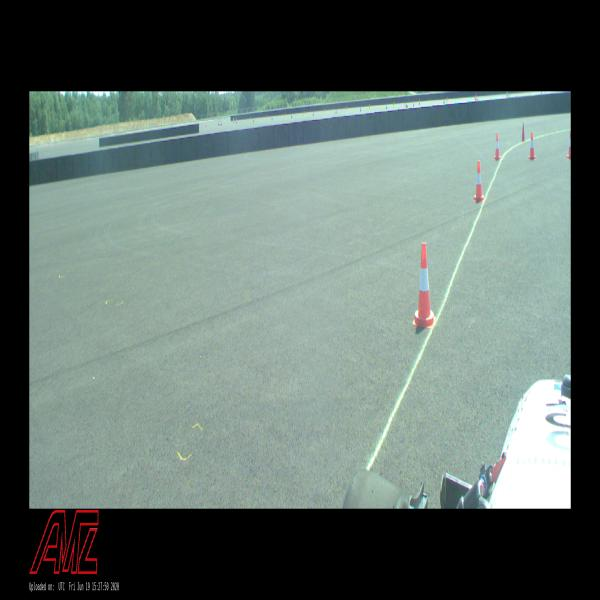orange_cone: (412, 242, 436, 328), (474, 161, 484, 202), (528, 132, 536, 161), (494, 133, 501, 160), (567, 131, 571, 159)
unknown_cone: (521, 123, 525, 142)
